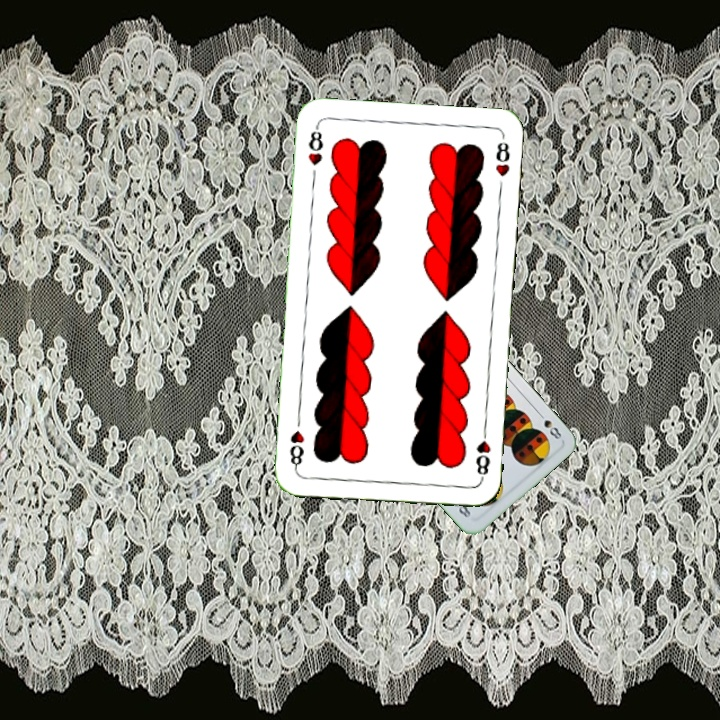H8: (472, 423, 493, 482), (304, 122, 326, 168)
S8: (533, 408, 564, 442)
